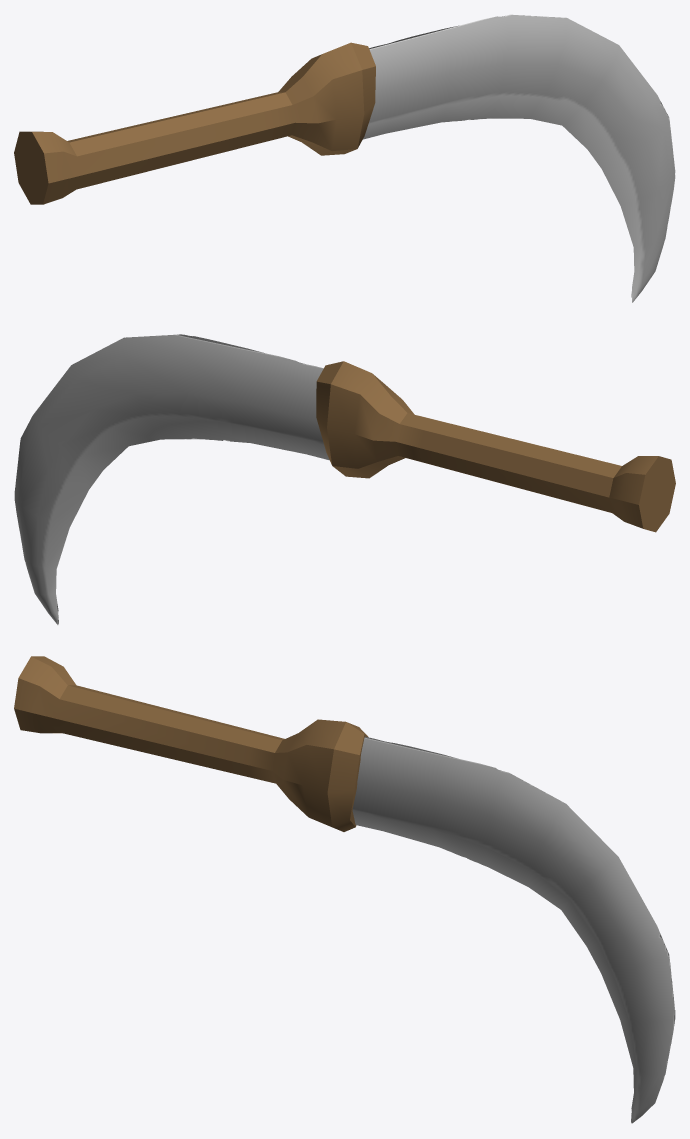
The model's file is Right.Forearm.fbx.
The picture shows the model from 3 angles, top to bottom: view 1: azimuth 30°, elevation 25°; view 2: azimuth 150°, elevation 25°; view 3: azimuth 330°, elevation 25°; orthographic projection.
Visible parts, largest first — view 1: Right.Forearm.Object; view 2: Right.Forearm.Object; view 3: Right.Forearm.Object.
Part boxes in pixels (x1=…): Right.Forearm.Object: x1=14, y1=14, x2=675, y2=302; Right.Forearm.Object: x1=14, y1=334, x2=675, y2=624; Right.Forearm.Object: x1=14, y1=656, x2=675, y2=1123.
Bounding box in the file's own units: 1.56 × 0.7717 × 0.1608.
